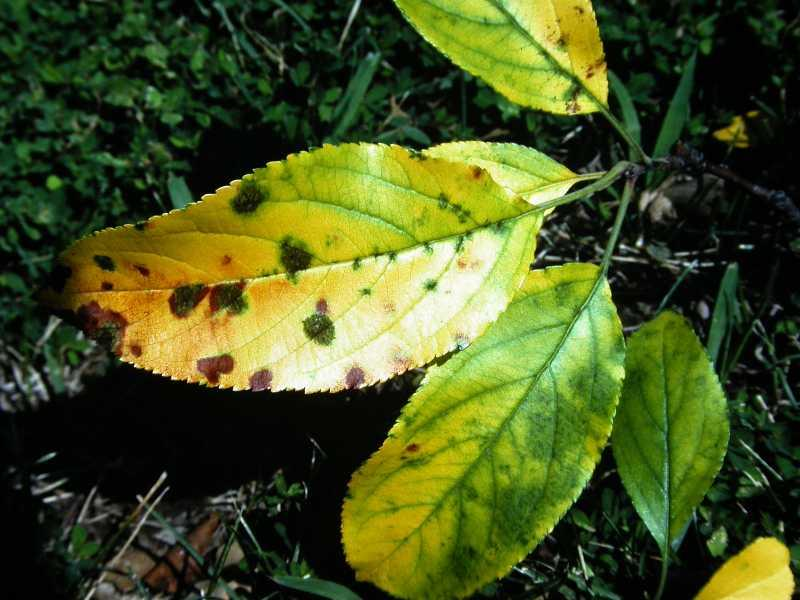Apple rust leaf: (34, 146, 559, 387)
